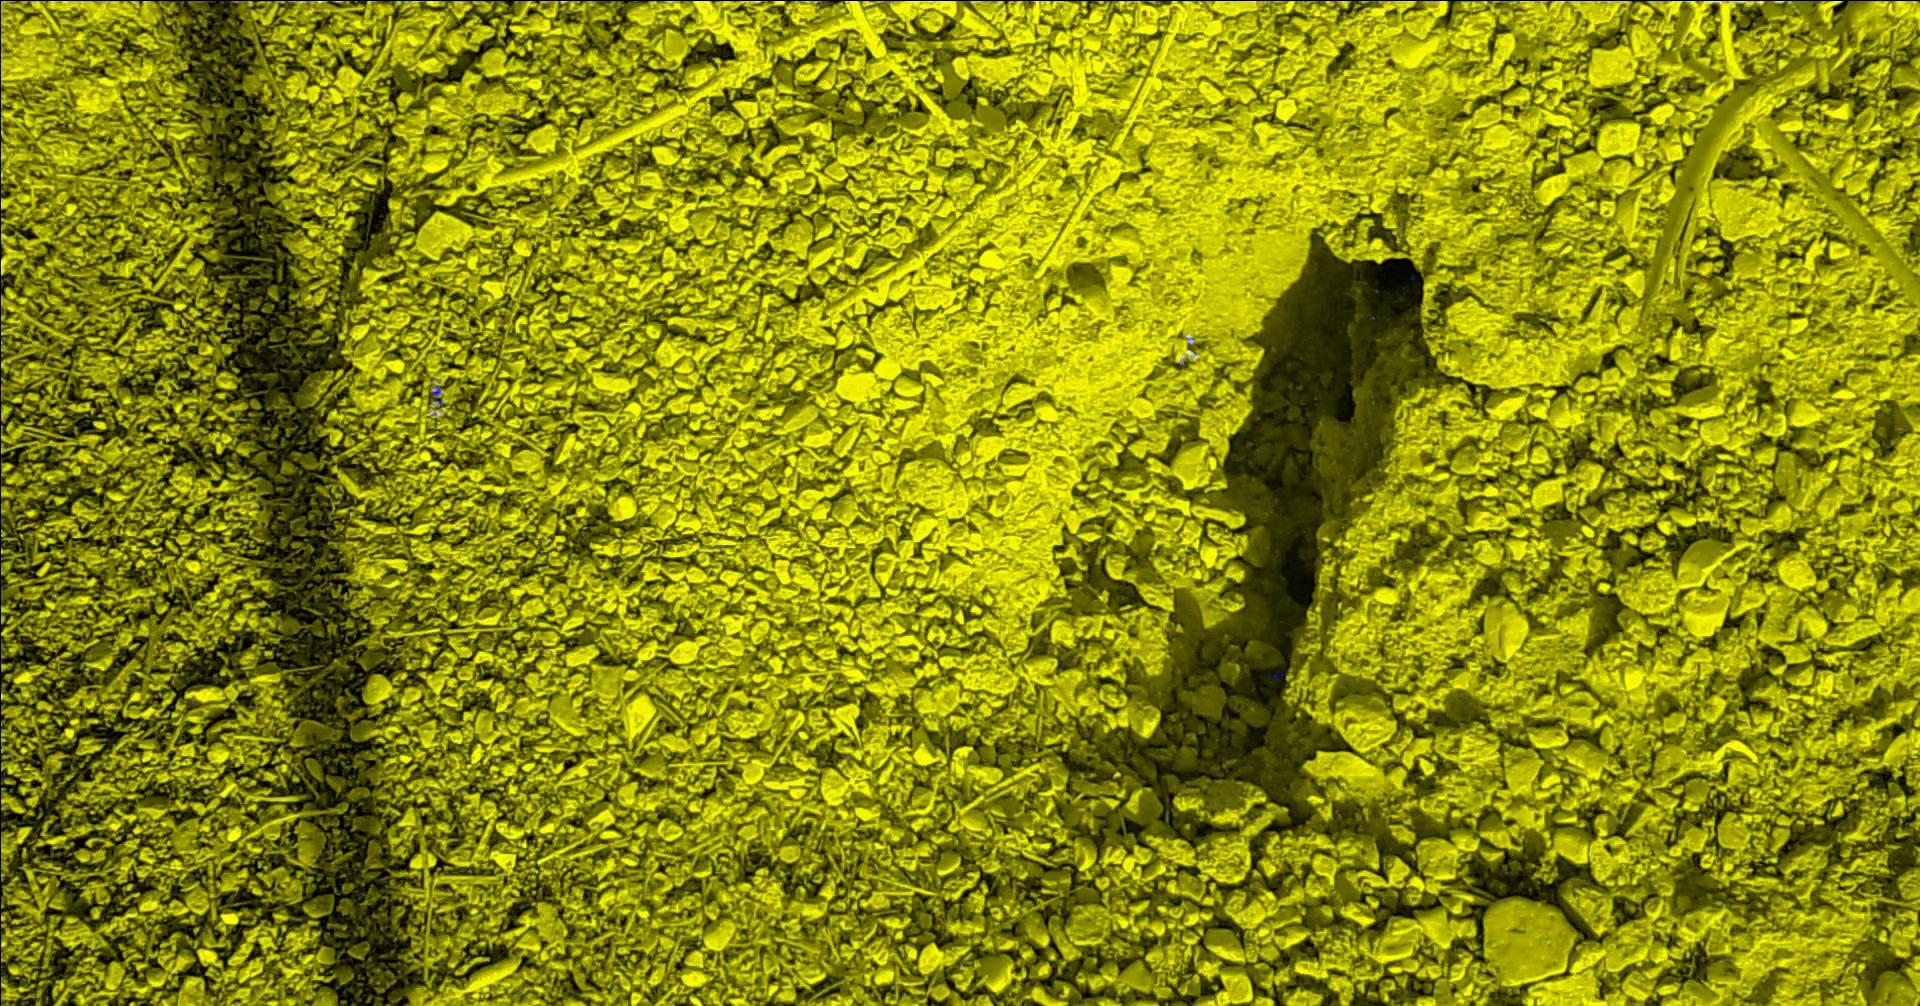ant: (432, 385, 444, 405), (154, 0, 217, 1)
